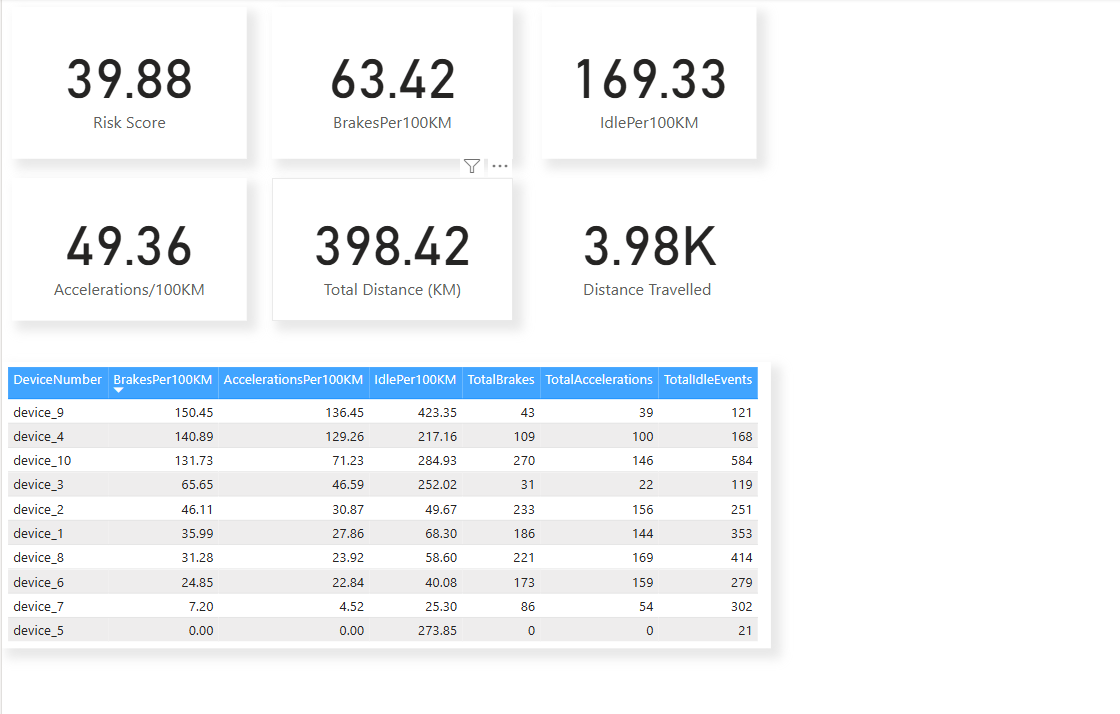

What the dashboard file says about the page in this screenshot:
{"tool":"powerbi","page":{"name":"Driver Risk Profiles","canvas":[1280,720],"ordinal":1},"visuals":[{"type":"card","fields":{"Values":["Avg(DriverRiskSummary.RiskScore)"]},"box":[9.9,9,231.9,149.6],"z":1000},{"type":"card","fields":{"Values":["Avg(DriverRiskSummary.BrakesPer100KM)"]},"box":[266.9,9,238.2,149.6],"z":2000},{"type":"card","fields":{"Values":["Avg(DriverRiskSummary.AccelerationsPer100KM)"]},"box":[9.9,178.2,231.9,141.5],"z":3000},{"type":"card","fields":{"Values":["Avg(DriverRiskSummary.IdlePer100KM)"]},"box":[533.7,9,212.2,149.6],"z":4000},{"type":"card","fields":{"Values":["Avg(DriverRiskSummary.TotalDistanceKM)"]},"box":[266.9,178.2,238.2,141.5],"z":5000},{"type":"tableEx","fields":{"Values":["DriverRiskSummary.DeviceNumber","DriverRiskSummary.BrakesPer100KM","DriverRiskSummary.AccelerationsPer100KM","DriverRiskSummary.IdlePer100KM","DriverRiskSummary.TotalBrakes","DriverRiskSummary.TotalAccelerations","DriverRiskSummary.TotalIdleEvents"]},"box":[0,359.8,760.1,282.7],"z":6000},{"type":"card","fields":{"Values":["Sum(TelemetryData.DistanceKM)"]},"box":[533.7,177.9,212.5,141.3],"z":8004}]}

Visuals, with their boxes on the page's 1280x720 design canvas (x1, y1, x2, y2). These are canvas units, not pixel positions in the 1120x714 screenshot, which may show the page scaled, cropped or inside an application window:
card - Avg(DriverRiskSummary.RiskScore): <region>10, 9, 242, 159</region>
card - Avg(DriverRiskSummary.BrakesPer100KM): <region>267, 9, 505, 159</region>
card - Avg(DriverRiskSummary.AccelerationsPer100KM): <region>10, 178, 242, 320</region>
card - Avg(DriverRiskSummary.IdlePer100KM): <region>534, 9, 746, 159</region>
card - Avg(DriverRiskSummary.TotalDistanceKM): <region>267, 178, 505, 320</region>
tableEx - DriverRiskSummary.DeviceNumber x DriverRiskSummary.BrakesPer100KM: <region>0, 360, 760, 642</region>
card - Sum(TelemetryData.DistanceKM): <region>534, 178, 746, 319</region>
